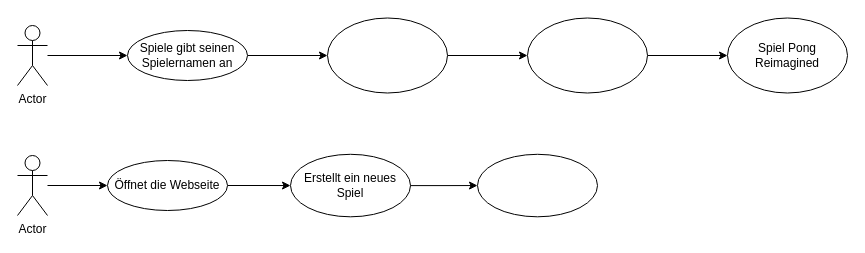
Some shapes in this 865 by 253 pixel diagram are drawn without their labels. The centre of each missing label's shape, as x and y in pixels:
Nutzer sucht in der Lobby nach offenen Spielen: (x=387, y=55)
Tritt einem Spiel bei: (x=587, y=55)
Wartet auf Spieler: (x=537, y=185)
